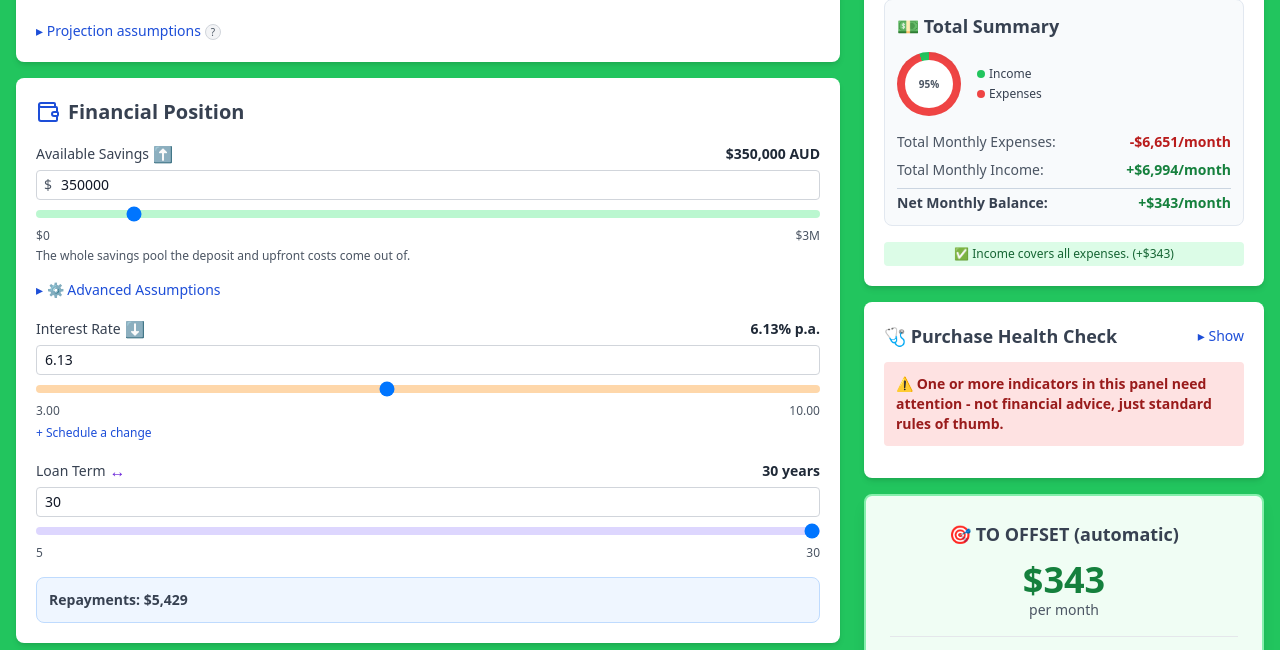
Test: Emergency/Vacancy Buffer settlement-shortfall display (TODO-149) › Emergency Buffer shows "Can't cover settlement" when liquidSavings is negative
(page scrolled)
Click the button "▸ Show" at (1221, 336), box [1198,326,1244,346]
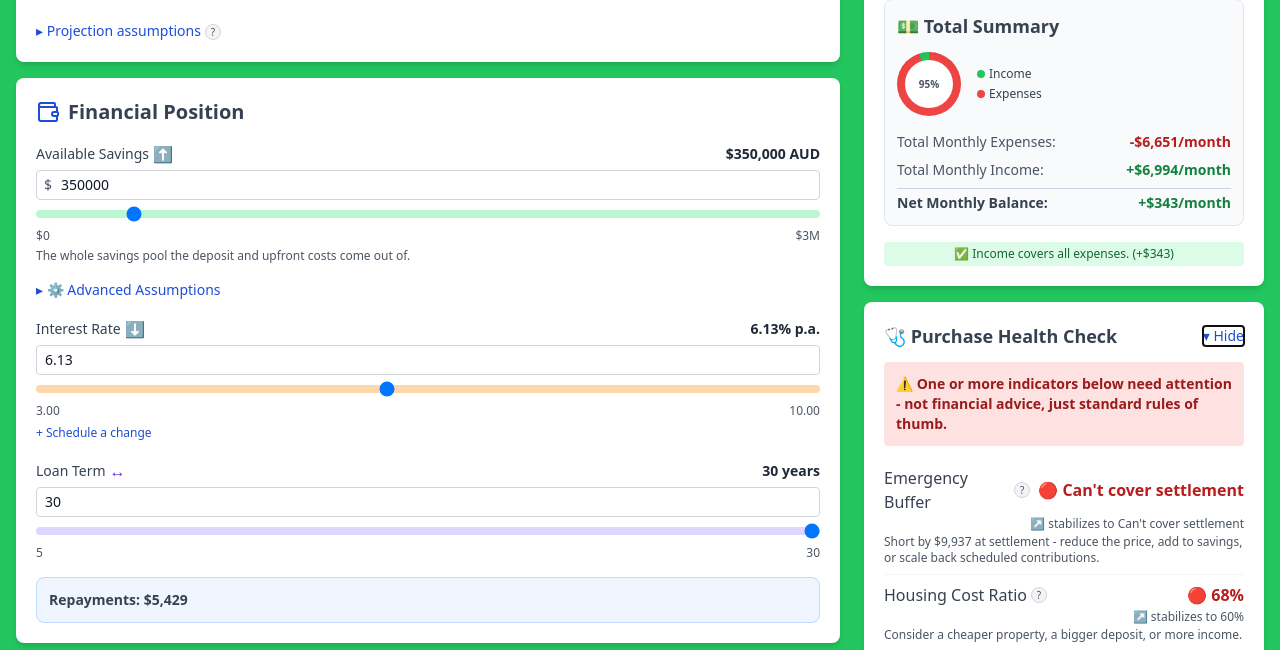
Expected: the text "🔴 Can't cover settlement" is shown, [1038,478,1244,502]
Expected: the text "Short by $9,937 at settlement" is shown, [884,533,1242,566]
